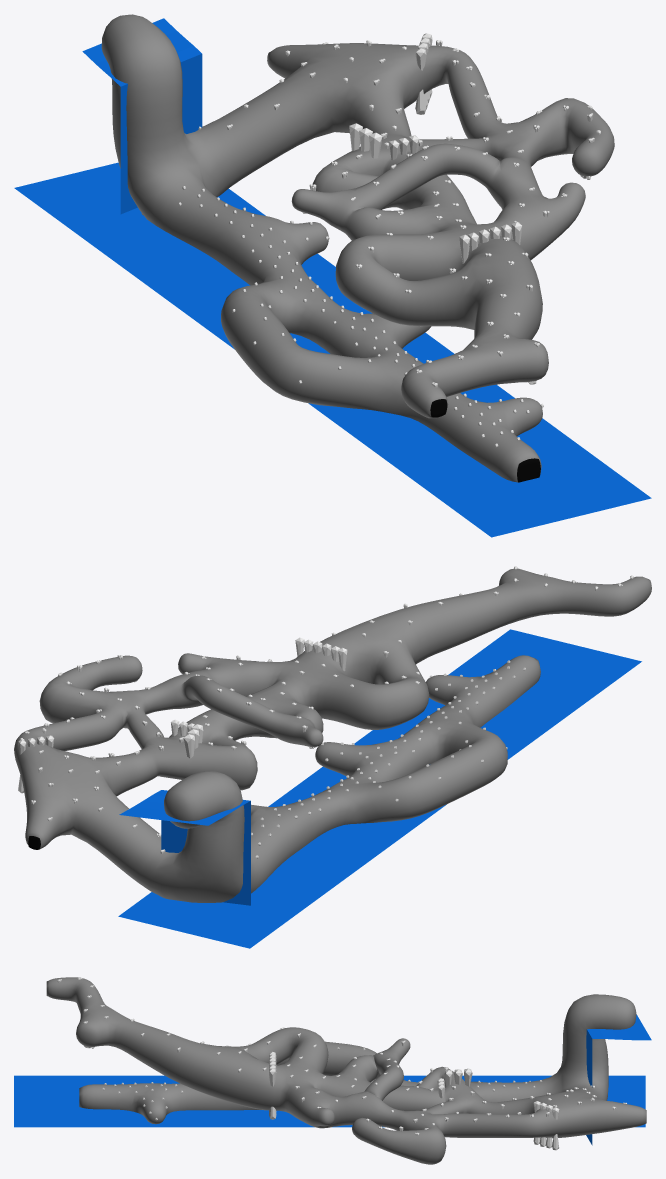
File: MainCave.fbx
The picture shows the model from 3 angles, top to bottom: view 1: azimuth 30°, elevation 25°; view 2: azimuth 150°, elevation 25°; view 3: azimuth 270°, elevation 25°; orthographic projection. The views are drawn at different scales.
Visible parts, largest first — view 1: Cube.001, Plane, Plane.001, Cube.011, Cube.015; view 2: Cube.001, Plane, Plane.001, Cube.011; view 3: Cube.001, Plane, Plane.001, Cube.033, Cube.015, Cube.011.
Part boxes in pixels (x1=…): Cube.001: x1=101, y1=14, x2=614, y2=482; Plane: x1=14, y1=162, x2=651, y2=537; Plane.001: x1=82, y1=18, x2=202, y2=214; Cube.011: x1=459, y1=222, x2=522, y2=263; Cube.015: x1=349, y1=123, x2=382, y2=158; Cube.001: x1=14, y1=568, x2=651, y2=902; Plane: x1=118, y1=629, x2=641, y2=948; Plane.001: x1=119, y1=790, x2=250, y2=905; Cube.011: x1=295, y1=637, x2=347, y2=671; Cube.001: x1=46, y1=977, x2=646, y2=1164; Plane: x1=14, y1=1075, x2=645, y2=1127; Plane.001: x1=586, y1=1014, x2=651, y2=1145; Cube.033: x1=533, y1=1101, x2=559, y2=1150; Cube.015: x1=444, y1=1068, x2=472, y2=1086; Cube.011: x1=269, y1=1051, x2=276, y2=1119.
Bounding box in the file's own units: 1361 × 563 × 2495.
